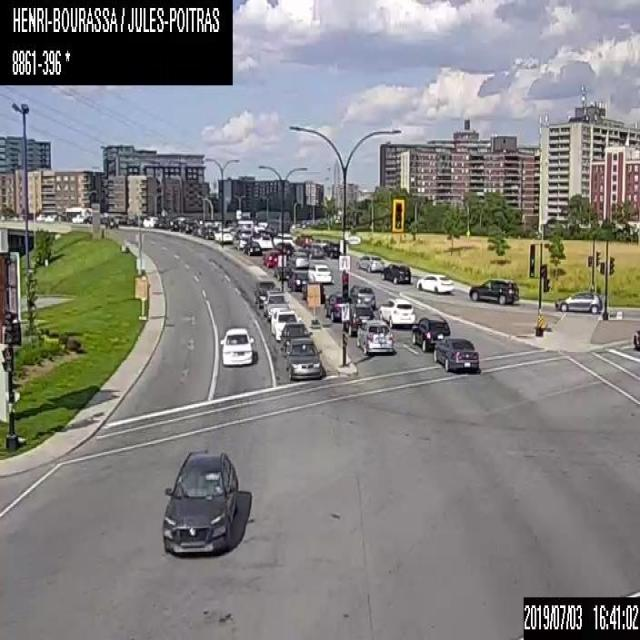bus: (65, 206, 91, 221)
vehicle: (162, 447, 240, 557), (432, 336, 478, 372), (284, 337, 322, 378), (410, 316, 450, 352), (468, 276, 519, 303), (356, 318, 392, 354), (219, 327, 254, 364), (554, 288, 601, 312), (379, 297, 414, 329), (341, 303, 374, 334), (270, 307, 301, 339), (280, 323, 312, 350), (261, 288, 289, 318), (414, 271, 452, 292), (325, 291, 351, 321), (254, 276, 276, 308), (348, 283, 375, 308), (381, 262, 410, 283), (307, 261, 332, 283), (355, 253, 382, 271), (301, 279, 323, 301), (286, 269, 306, 291), (250, 232, 272, 248), (298, 242, 321, 257), (273, 261, 291, 279), (272, 232, 293, 246), (262, 248, 278, 266), (289, 250, 306, 266), (232, 232, 248, 249), (242, 240, 261, 254), (323, 241, 339, 257), (179, 218, 196, 233), (214, 229, 231, 243), (296, 232, 313, 245), (275, 242, 292, 254), (631, 328, 639, 351), (105, 215, 118, 228), (71, 213, 83, 221)
